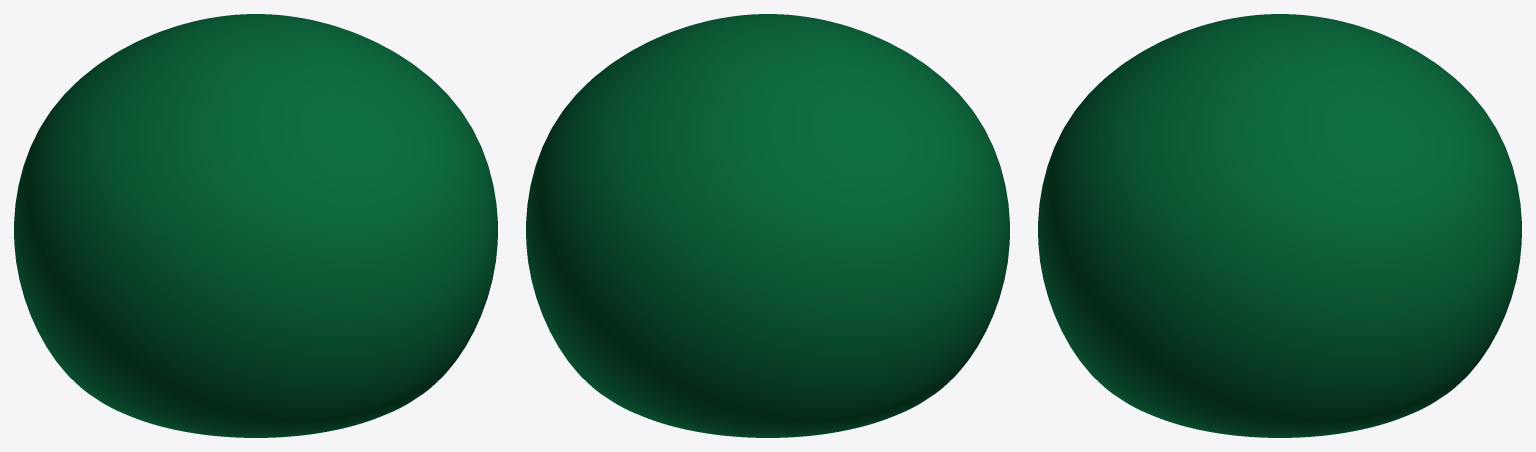
3 views of the same model, side by side, from view 1: azimuth 30°, elevation 25°; view 2: azimuth 150°, elevation 25°; view 3: azimuth 270°, elevation 25° (orthographic).
Visible parts, largest first — view 1: Sphere.031; view 2: Sphere.031; view 3: Sphere.031.
Part boxes in pixels (x1,y1,x2,y2): Sphere.031: (14, 14, 497, 437); Sphere.031: (526, 14, 1009, 437); Sphere.031: (1038, 14, 1521, 437).
Bounding box in the file's own units: 3.51 × 2.63 × 3.51.
